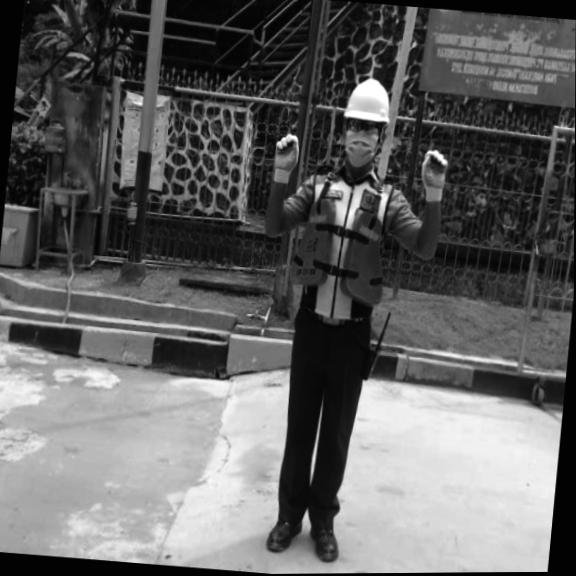safety_vest: (287, 192, 393, 300)
